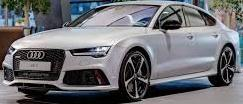Cars: (4, 4, 240, 102)
